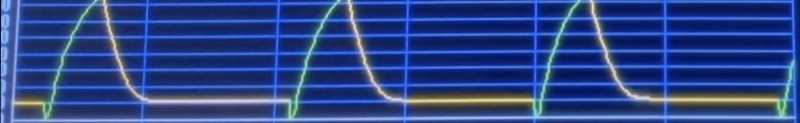leakage: (7, 0, 782, 123)
